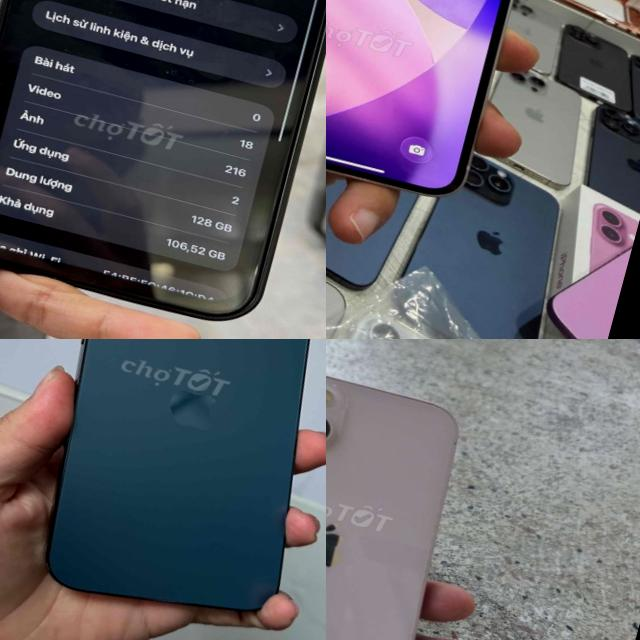gen_12_13: (0, 0, 326, 339), (0, 339, 326, 640), (326, 0, 566, 212), (326, 351, 485, 640)
